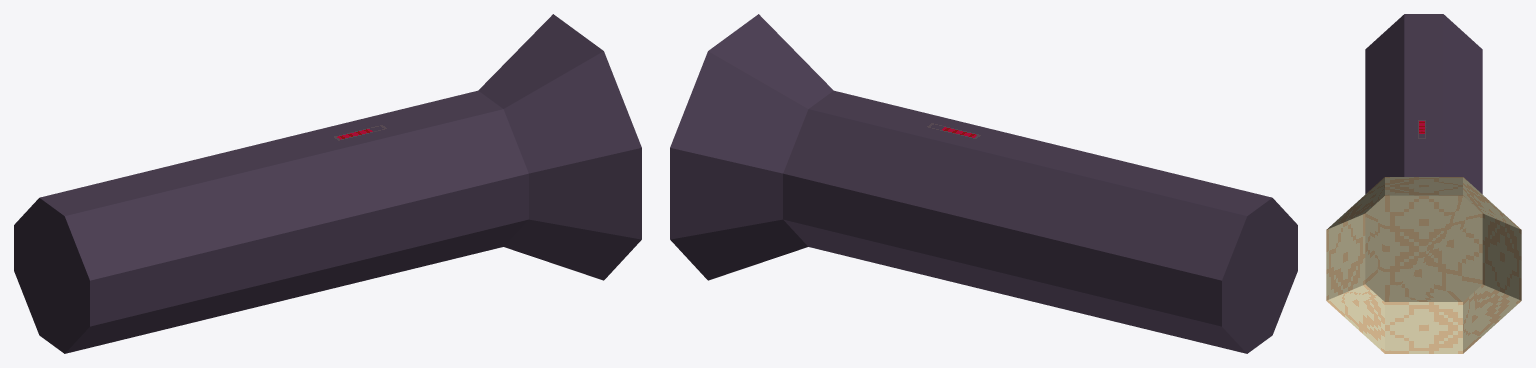
File: flashligght.gltf
3 views of the same model, side by side, from view 1: azimuth 30°, elevation 25°; view 2: azimuth 150°, elevation 25°; view 3: azimuth 270°, elevation 25° (orthographic). The views are drawn at different scales.
Size of the model in its own units: 6 by 2.5 by 2.5.
1 material, 1 textured.
